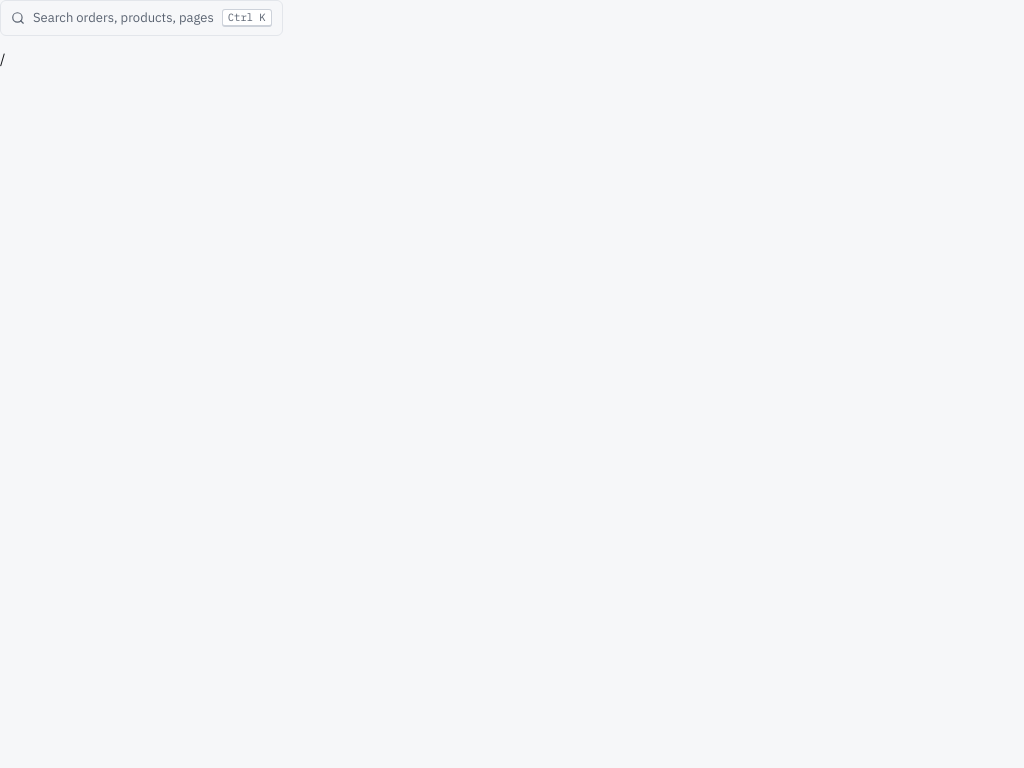
Test: typing shop-10 lists matching orders and Enter opens the order
The image size is (1024, 768).
Type keys "{Control>}k{/Control}"
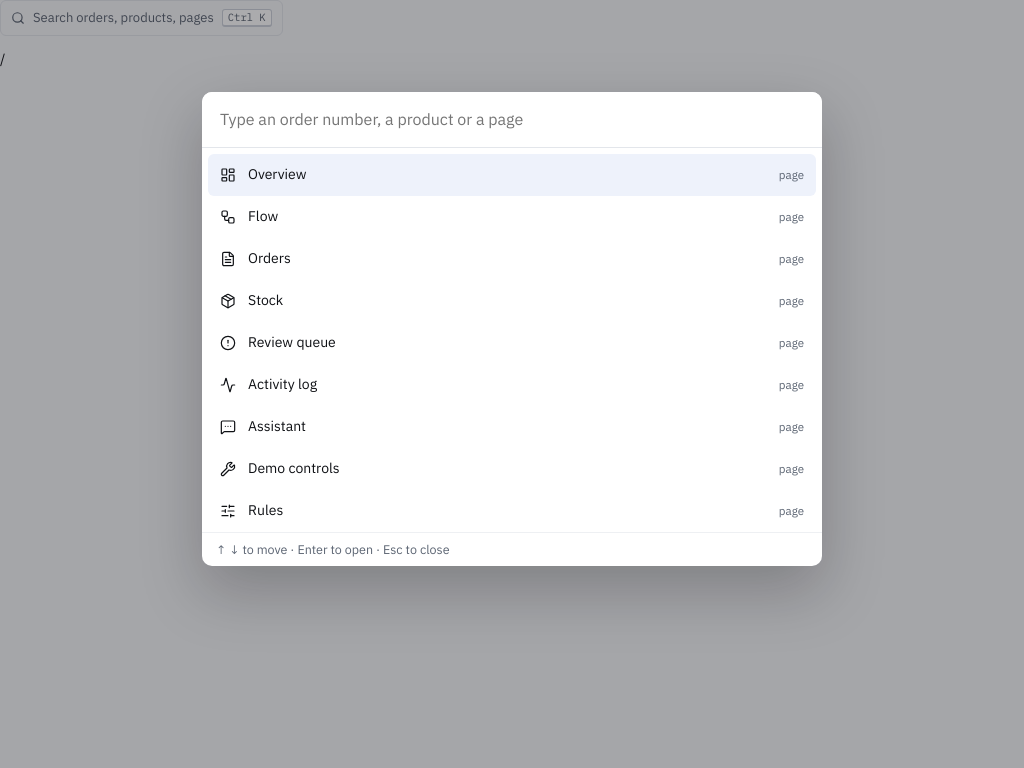
Type "shop-10" into the dropdown at (512, 120), box 202,92 -> 822,148
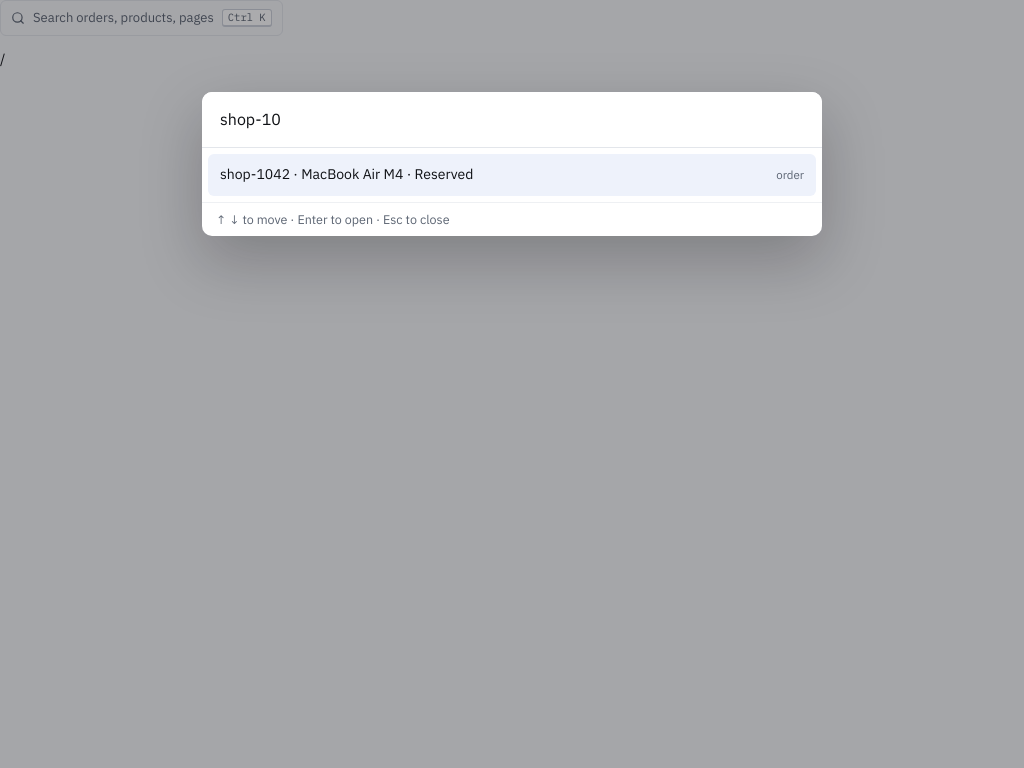
Check: the option "shop-1042 · MacBook Air M4 · Reserved order" is selected, box 208,154 -> 816,196
Press Enter
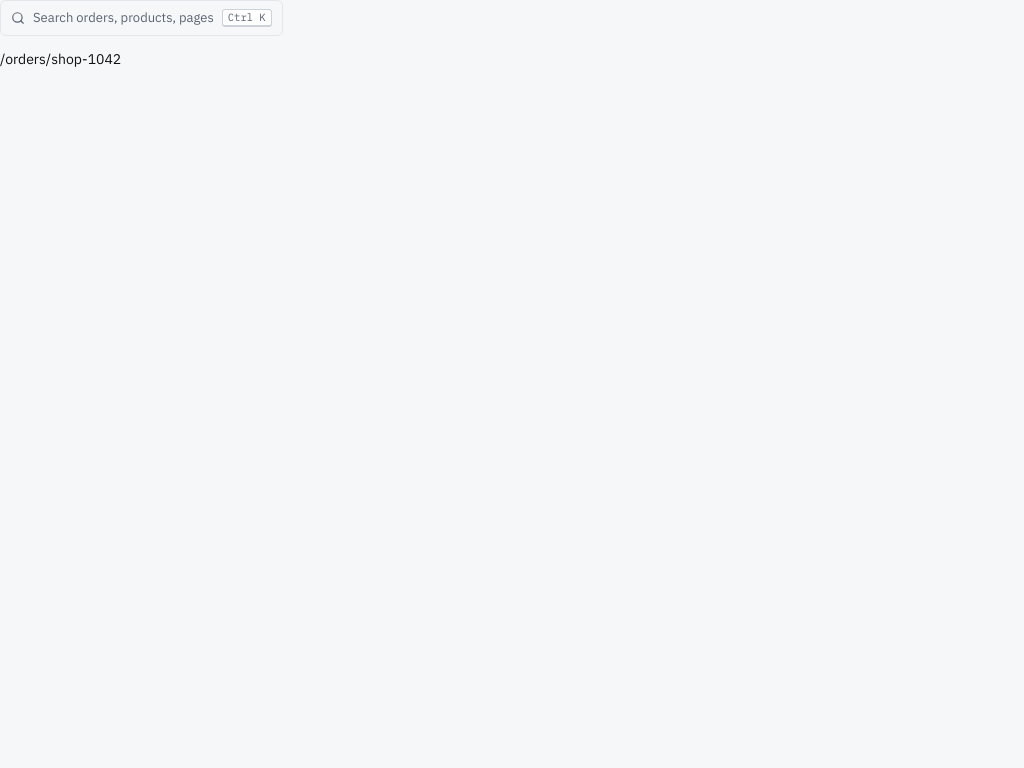
Check: the text named "Page" reads "/orders/shop-1042", box 0,50 -> 121,68
Check: the dialog is gone
